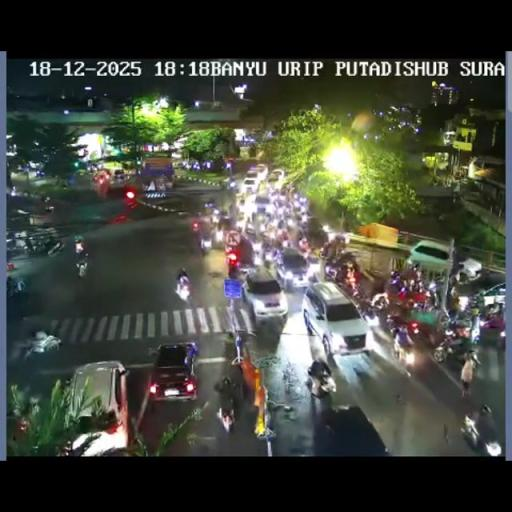Car: (63, 361, 131, 454), (302, 282, 370, 358), (147, 342, 199, 402), (242, 266, 289, 322), (406, 240, 452, 281), (250, 193, 272, 220), (242, 176, 260, 193), (250, 163, 268, 180), (268, 168, 285, 182), (244, 220, 257, 237), (114, 169, 124, 181)
Motorcycle: (262, 186, 310, 234), (436, 326, 481, 370), (224, 296, 255, 338), (8, 392, 38, 434), (362, 324, 390, 364), (477, 310, 506, 348), (214, 386, 237, 432), (458, 290, 494, 319), (392, 330, 418, 367), (385, 308, 417, 336), (5, 276, 28, 311), (358, 290, 384, 320), (308, 369, 334, 398), (341, 267, 363, 300), (26, 333, 60, 354), (460, 413, 479, 446), (385, 274, 408, 298), (324, 256, 346, 281), (428, 278, 446, 308), (445, 285, 462, 315), (175, 277, 192, 306), (304, 256, 322, 280), (225, 248, 240, 275), (236, 260, 258, 278), (331, 230, 352, 248), (198, 230, 213, 254), (46, 238, 66, 256), (408, 275, 426, 294), (251, 238, 264, 261), (263, 242, 277, 263), (319, 242, 335, 260), (452, 269, 470, 285), (24, 237, 40, 254), (72, 236, 86, 255), (438, 311, 452, 330), (486, 301, 502, 316), (284, 215, 298, 231), (209, 207, 221, 225), (298, 236, 310, 254), (76, 260, 87, 279), (146, 344, 160, 358), (214, 226, 224, 244), (6, 236, 18, 251), (298, 210, 308, 226), (281, 234, 291, 249), (227, 178, 237, 190), (191, 221, 199, 232), (44, 205, 54, 213), (41, 195, 51, 203)
